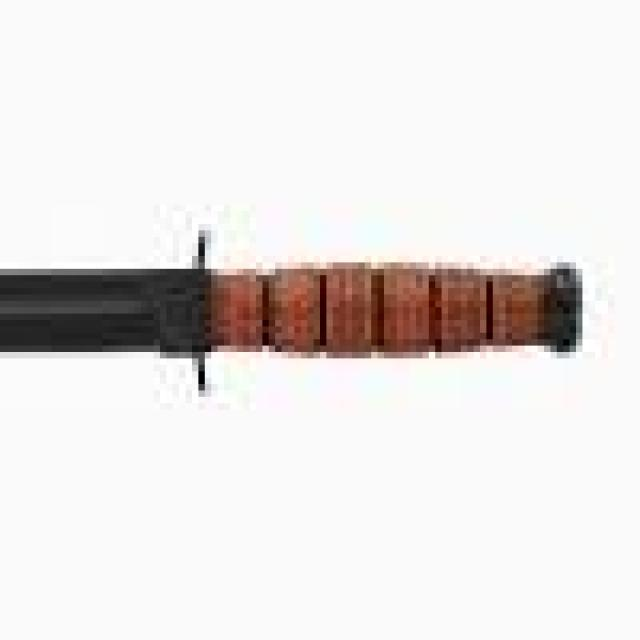Gun: (0, 223, 596, 401)
